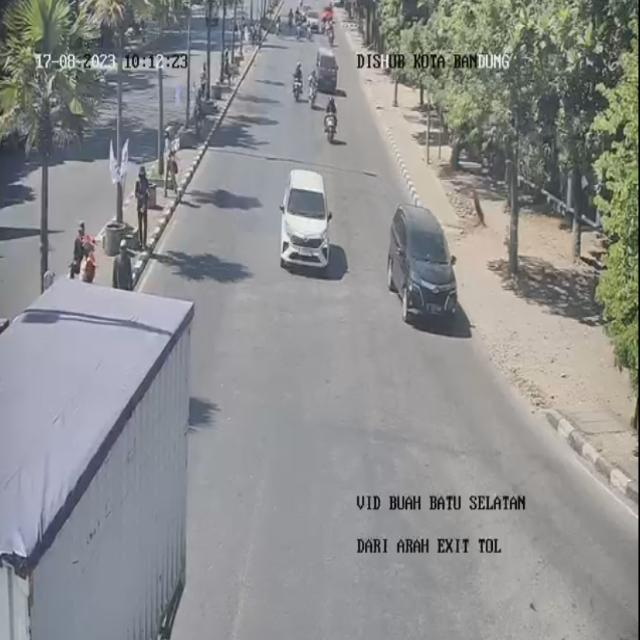cars: (393, 201, 458, 322), (276, 163, 328, 266), (314, 47, 336, 88)
motorcycle: (321, 92, 340, 144), (292, 61, 307, 106), (325, 20, 337, 50)
truck: (0, 281, 199, 638)
